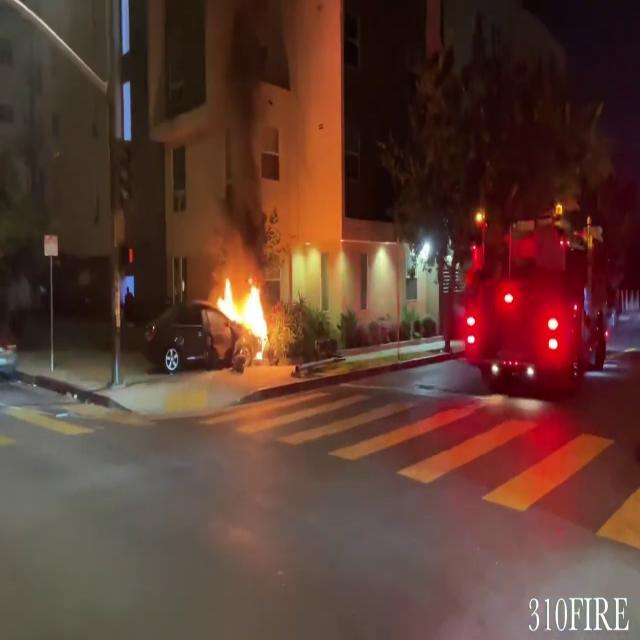Fire: (211, 266, 275, 358)
Smoke: (195, 0, 272, 250)
